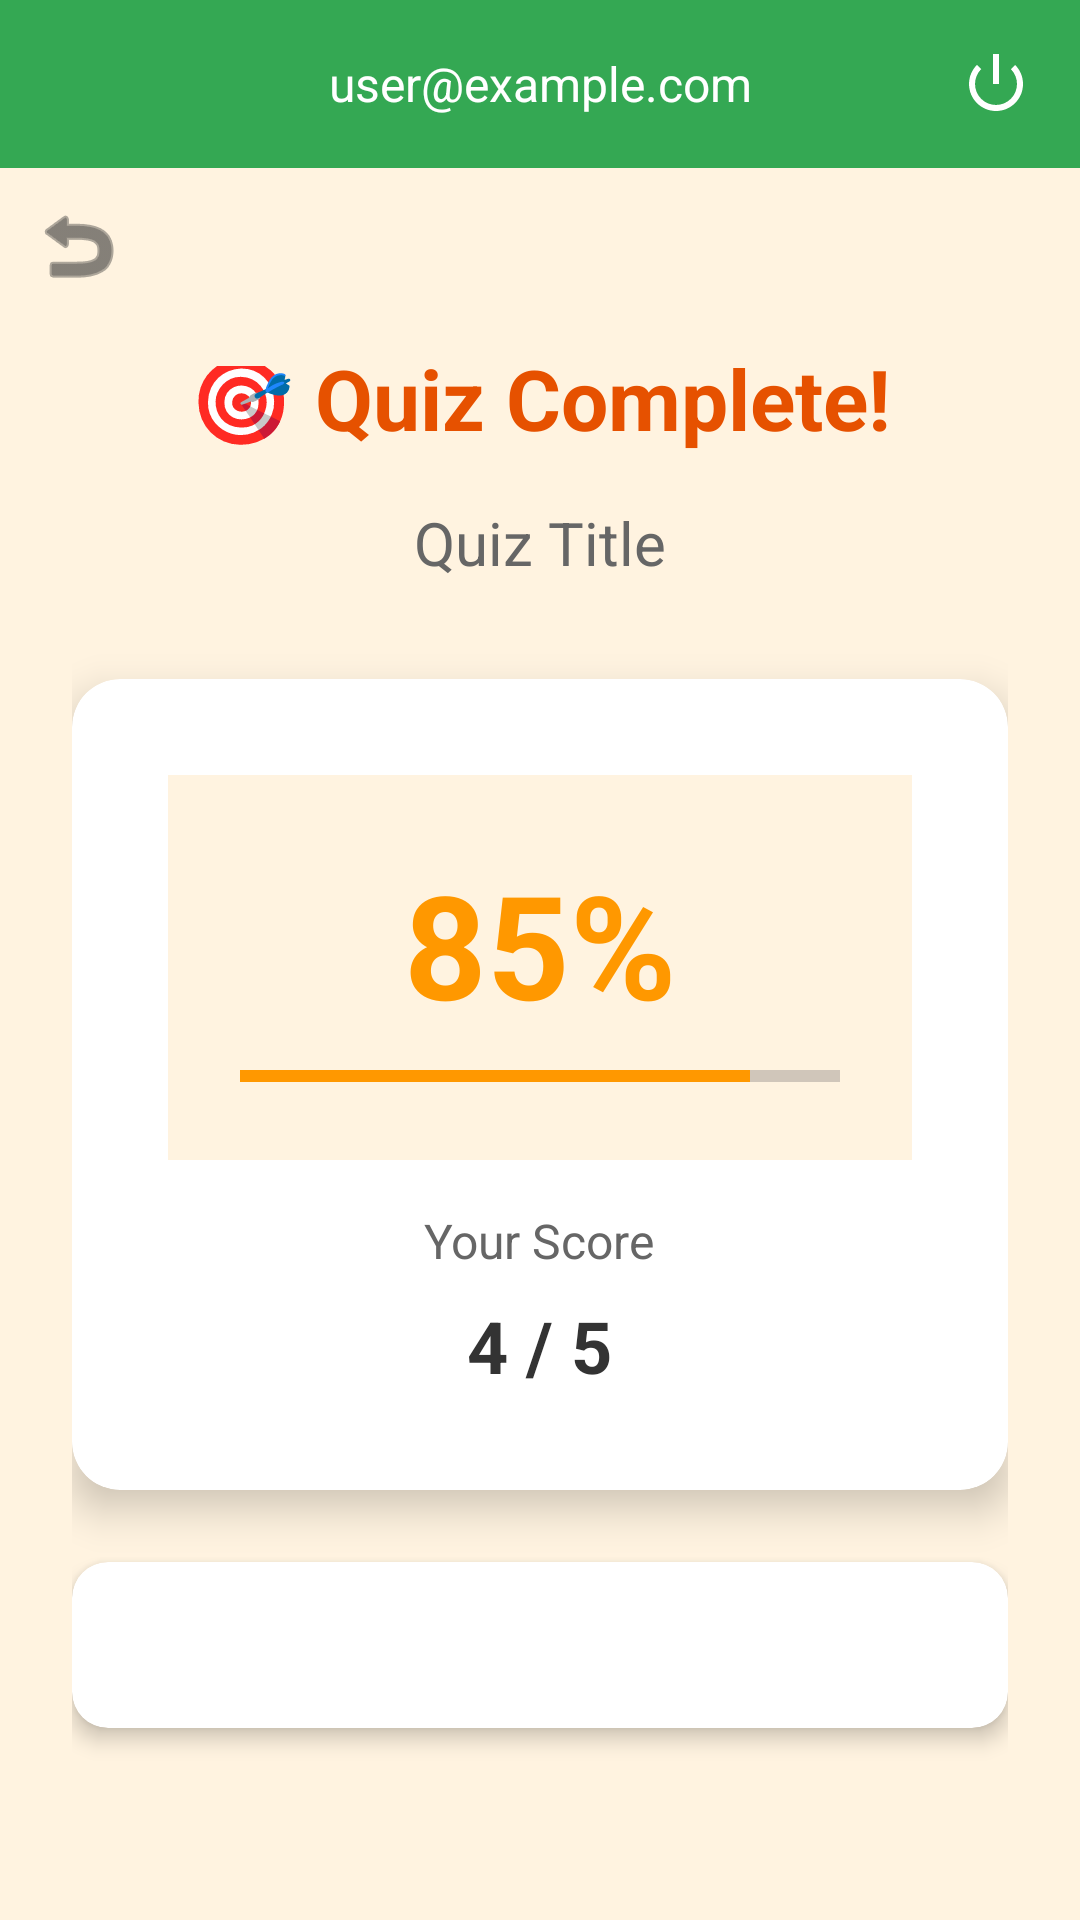

Named icons in this screenshot (1080w x 1920h) and their bounding boxes, (x1, y1, x2, y2):
Back: (45, 215, 114, 278)
